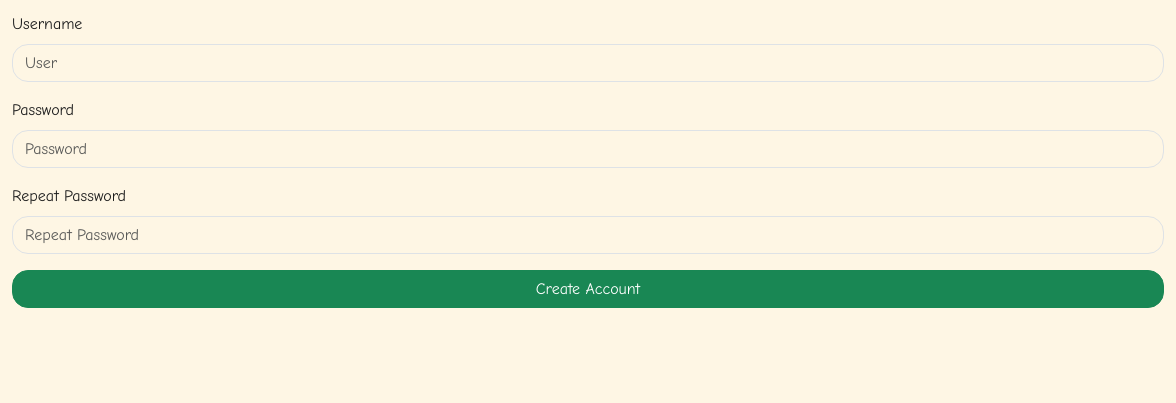
Scenario: CreateAccountForm › shows an error message if passwords do not match
The image size is (1176, 403).
Type "testuser" into the field labelled "Username".
click(588, 63); type("testuser")  # box [12,44,1164,82]
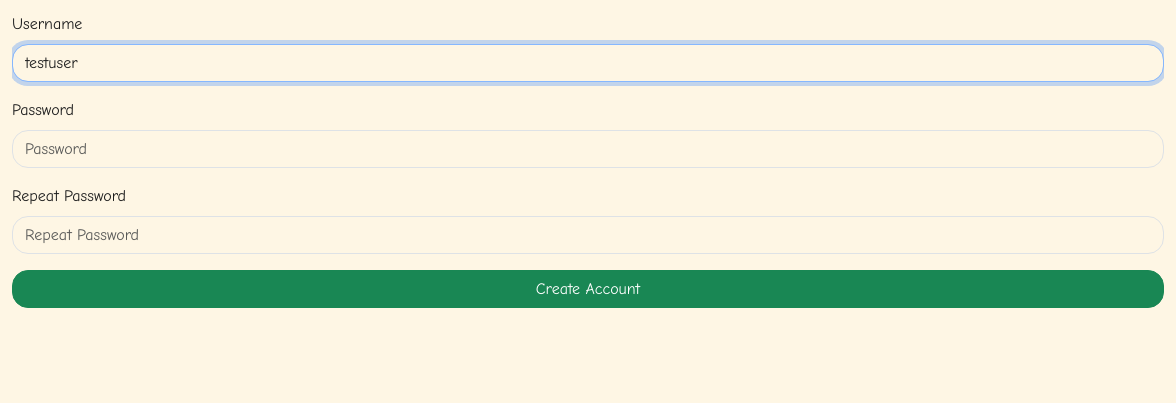
Type "password123" into the password field labelled "Password".
click(588, 149); type("password123")  # box [12,130,1164,168]
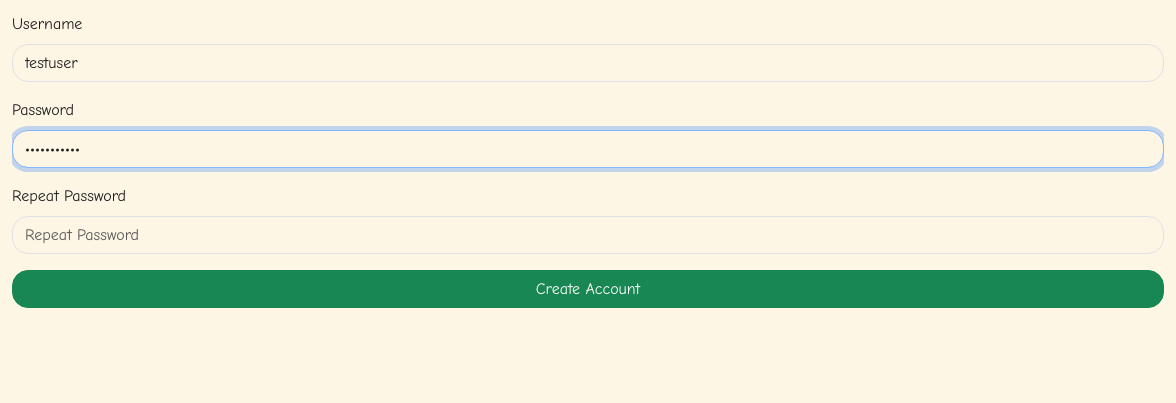
Type "password456" into the password field labelled "Repeat Password".
click(588, 235); type("password456")  # box [12,216,1164,254]
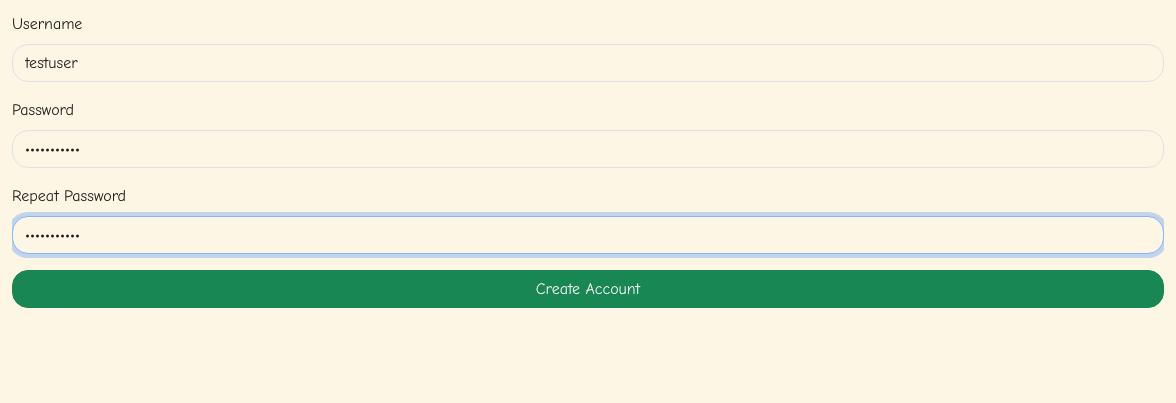
Click the button "Create Account".
click(588, 289)  # box [12,270,1164,308]
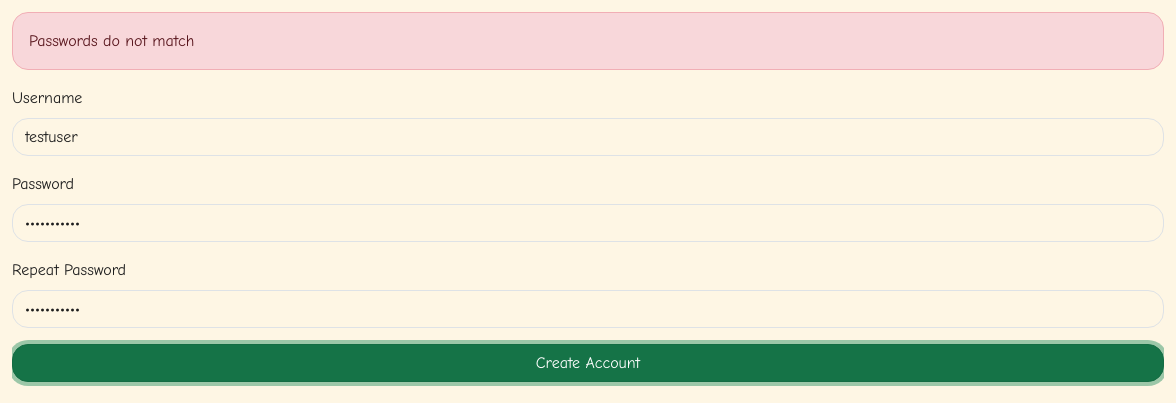
Check: the text "Passwords do not match" is shown, box [12,12,1164,70]
